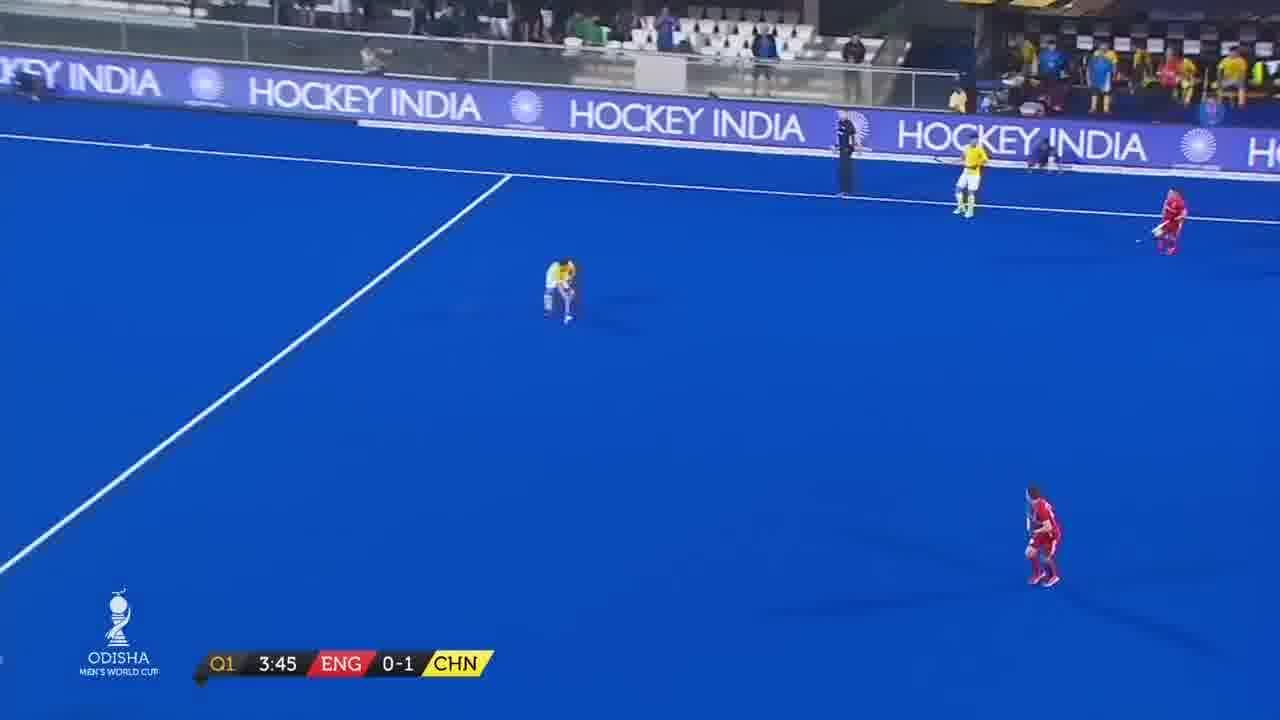ball: (1132, 229, 1148, 249)
